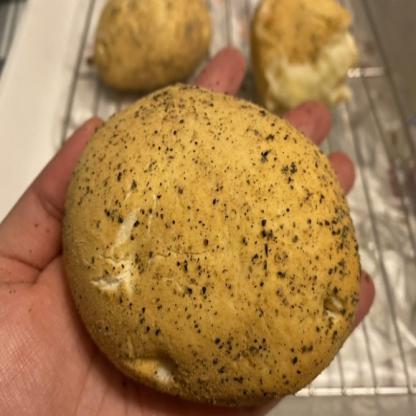potato: (64, 76, 367, 413)
